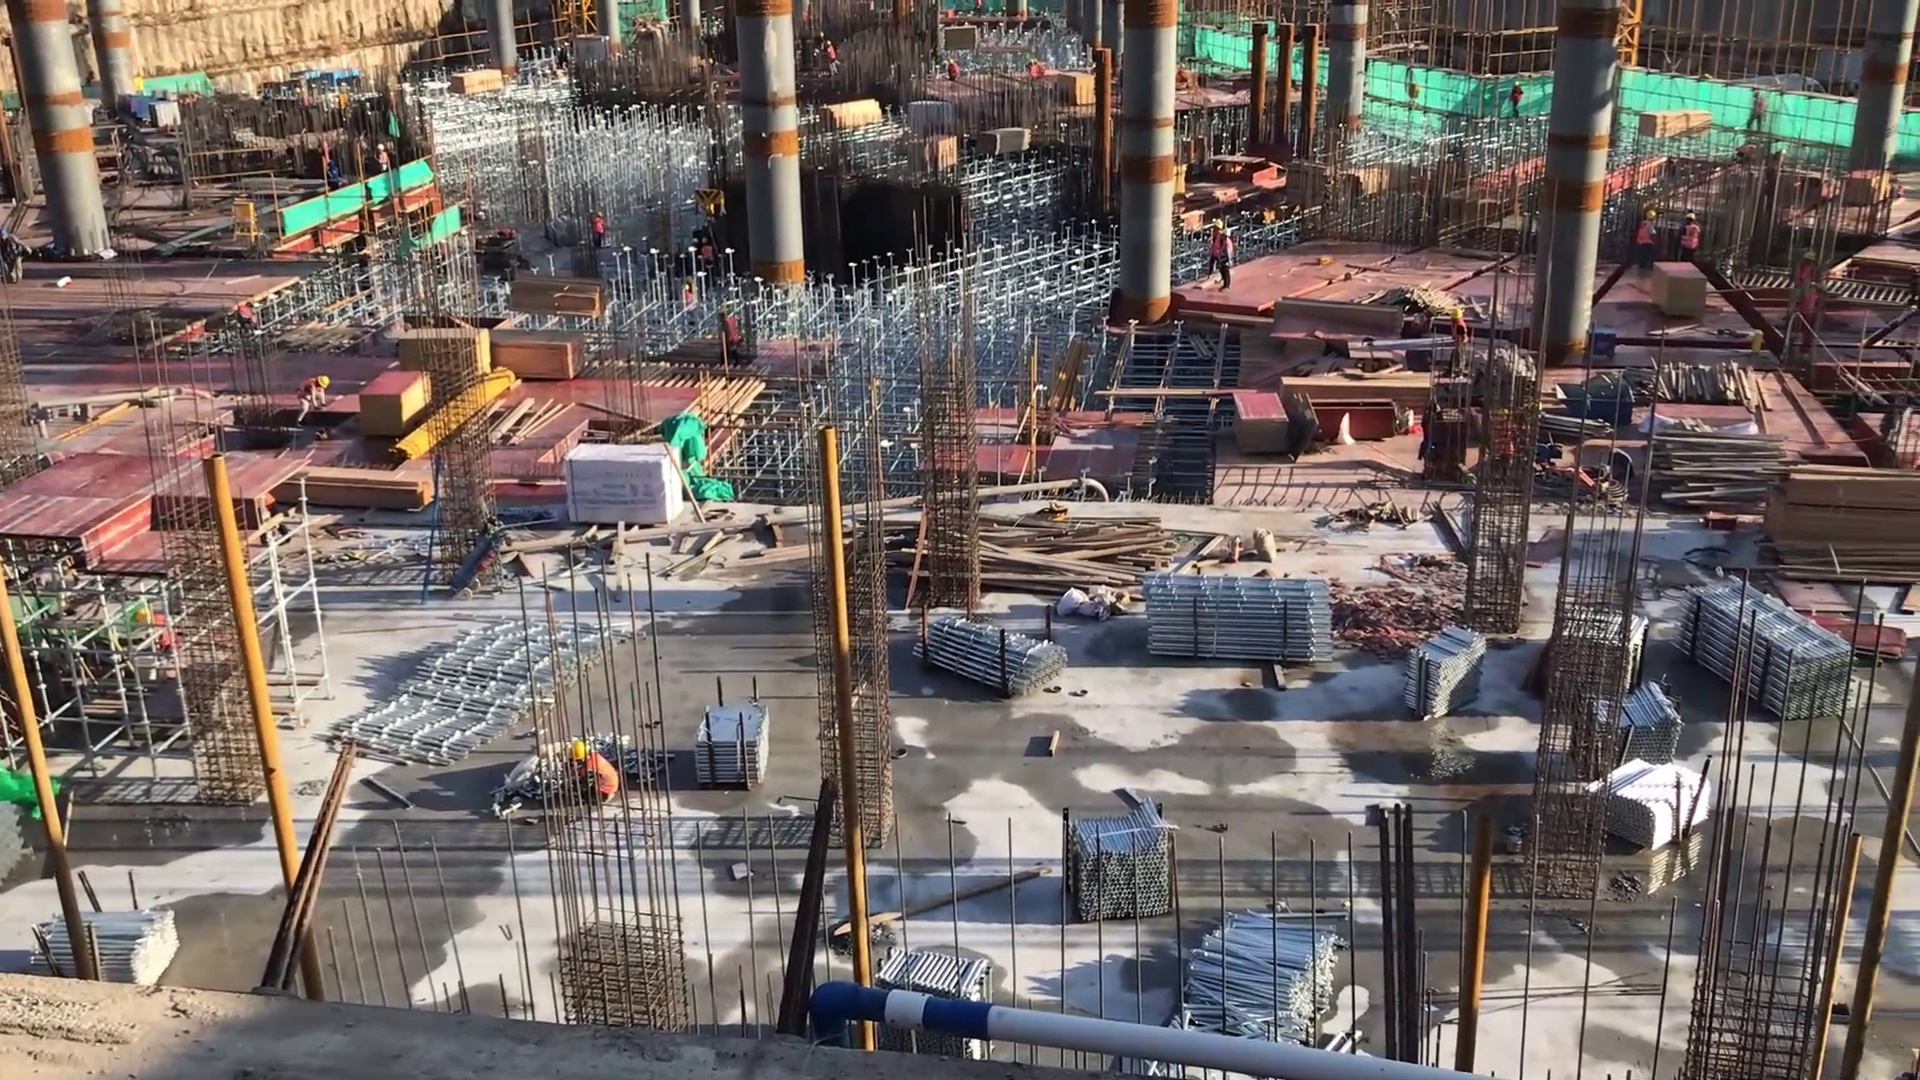board: (1787, 612, 1915, 670), (1278, 375, 1434, 420), (358, 362, 439, 443), (401, 323, 493, 386), (1230, 388, 1297, 459), (1630, 109, 1715, 144), (1059, 70, 1100, 107)
ebox: (219, 195, 266, 248)
helmet: (569, 738, 592, 769), (313, 371, 331, 390), (1642, 210, 1660, 225), (1452, 308, 1466, 322), (1683, 211, 1697, 224), (1804, 251, 1817, 264), (1213, 218, 1225, 232), (1221, 225, 1234, 237), (375, 141, 386, 152), (700, 235, 710, 248), (324, 159, 336, 169), (596, 212, 605, 221)
hook: (1551, 381, 1640, 434)
person: (566, 734, 624, 810), (1796, 279, 1832, 362), (1444, 303, 1470, 391), (1790, 248, 1822, 317), (296, 371, 332, 428), (1635, 207, 1661, 284), (1743, 84, 1775, 145), (718, 300, 746, 367), (1204, 217, 1227, 288), (1680, 207, 1705, 265), (1218, 224, 1237, 295), (1506, 78, 1528, 131), (236, 294, 258, 341), (699, 234, 720, 282), (323, 156, 346, 199), (592, 208, 611, 257), (370, 143, 394, 180), (944, 55, 962, 86), (825, 38, 840, 74), (1027, 60, 1046, 87)
scaffold: (1180, 902, 1358, 1062), (1676, 567, 1852, 723), (1137, 569, 1344, 671), (1059, 787, 1187, 949), (37, 894, 190, 999), (912, 605, 1070, 699), (1393, 630, 1483, 728), (1591, 688, 1676, 781), (870, 939, 997, 998)
vest: (583, 754, 620, 806), (1637, 221, 1660, 252), (1683, 222, 1703, 254), (296, 376, 317, 405), (1451, 320, 1471, 347), (1220, 238, 1236, 271), (327, 167, 341, 185)
wood: (1759, 469, 1920, 586), (979, 517, 1179, 601), (1649, 427, 1795, 519), (274, 464, 429, 513), (484, 330, 593, 383), (502, 275, 612, 320), (453, 61, 510, 101), (816, 100, 886, 133), (976, 125, 1031, 159)
